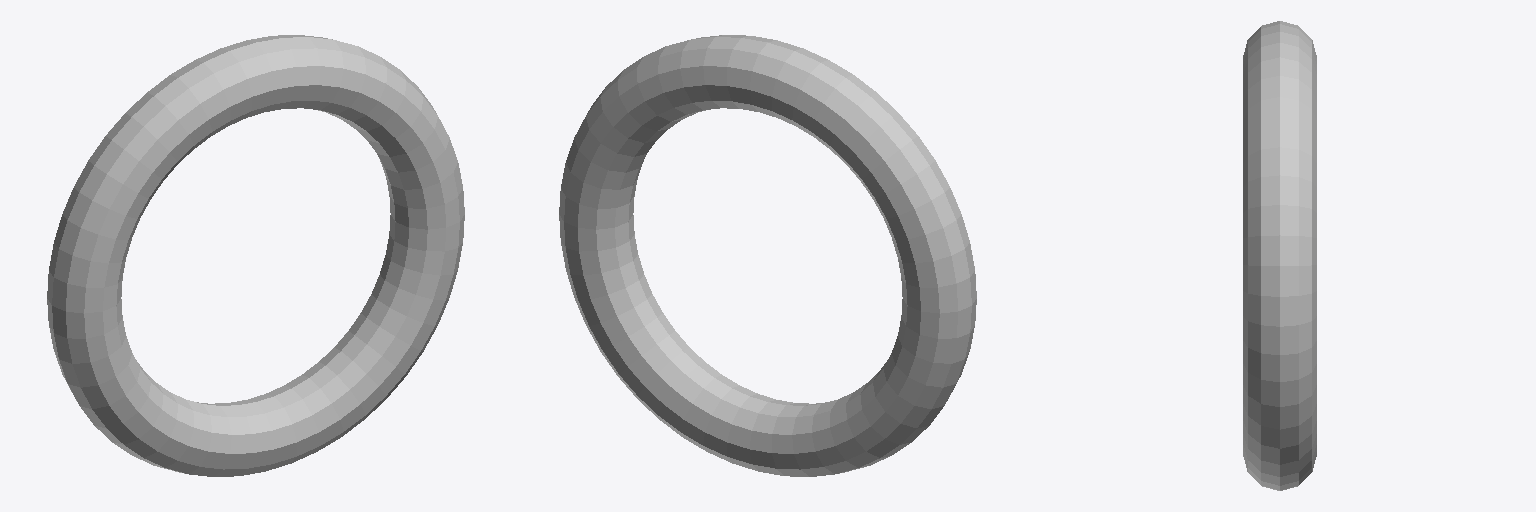
The model's file is ring.obj.
3 renders of one model, left to right at view 1: azimuth 30°, elevation 25°; view 2: azimuth 150°, elevation 25°; view 3: azimuth 270°, elevation 25°, orthographic.
Visible parts, largest first — view 1: Torus; view 2: Torus; view 3: Torus.
Part boxes in pixels (x1,y1,x2,y2): Torus: (47,35,464,476); Torus: (559,35,976,476); Torus: (1243,21,1316,490).
Size of the model in its own units: 2.38 by 2.38 by 0.375.